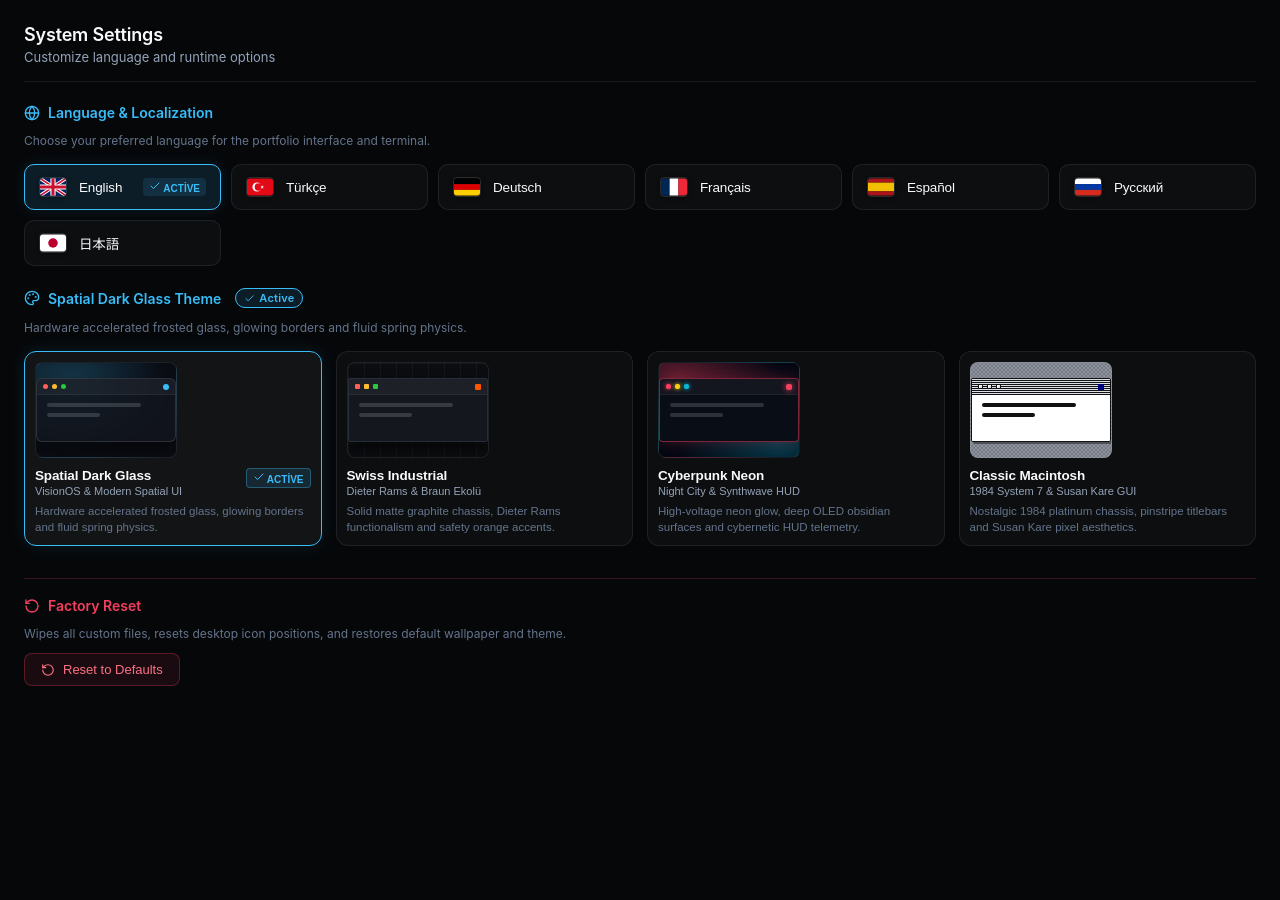
SettingsApp Component › should dynamically update selected theme info title and description when theme changes
Check: the text "Spatial Dark Glass Theme" is shown, box [48, 290, 221, 306]
Check: the text with test id "settings-theme-description" reads "Hardware accelerated frosted glass, glowing borders and fluid spring physics.", box [24, 320, 467, 335]
# Switch to Swiss Industrial
What coordinates should you click on to do the following:
click the radio button with test id "theme-card-swiss-industrial"
I would click on:
 (484, 449)
Its box is [336, 351, 633, 546].
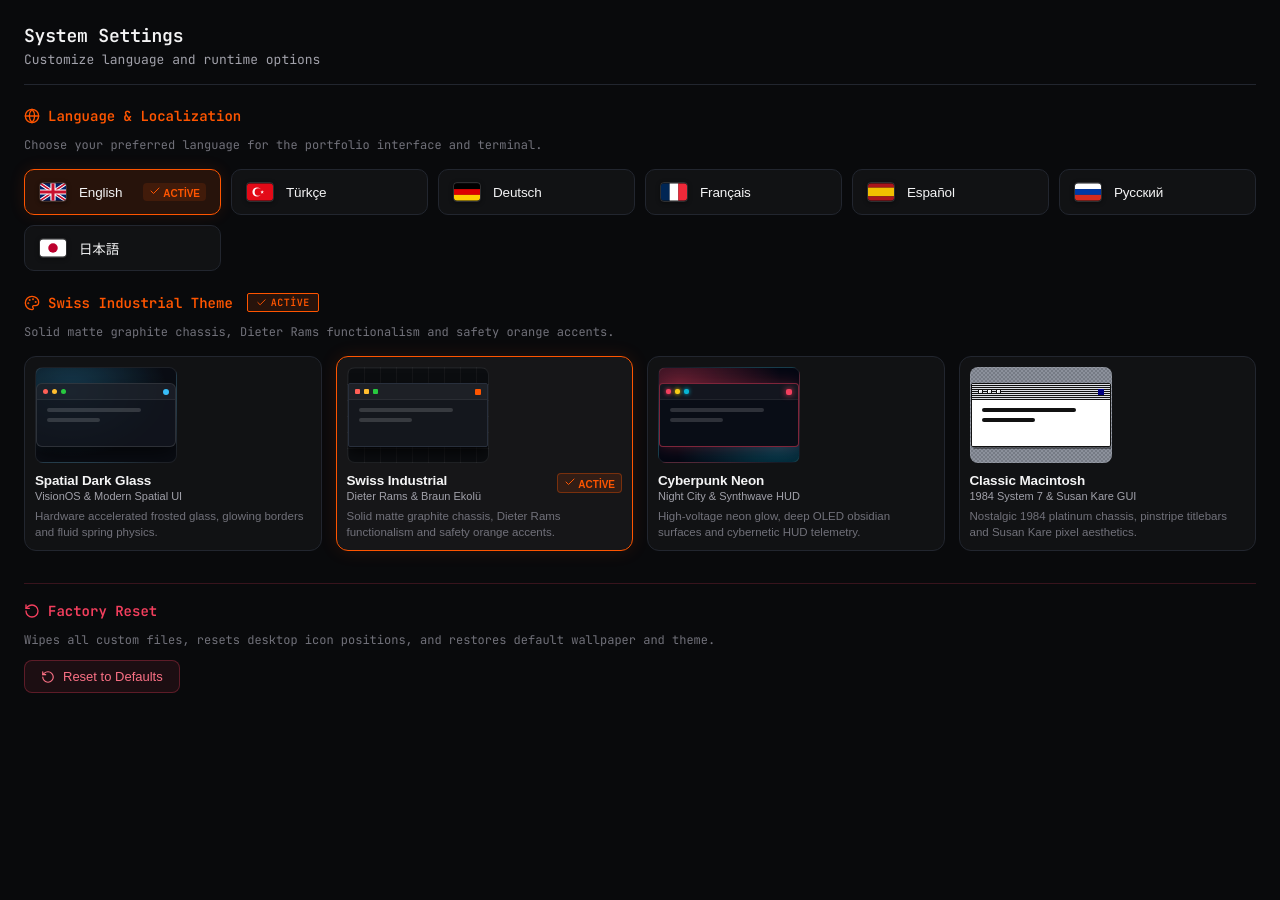
Check: the text "Swiss Industrial Theme" is shown, box [48, 294, 233, 312]
Check: the text with test id "settings-theme-description" shows "Solid matte graphite chassis, Dieter Rams functionalism and safety orange accents.", box [24, 324, 614, 340]
# Switch to Cyberpunk Neon
What coordinates should you click on to do the following:
click the radio button with test id "theme-card-cyberpunk-neon"
I would click on:
 (796, 454)
Its box is [647, 356, 944, 551].
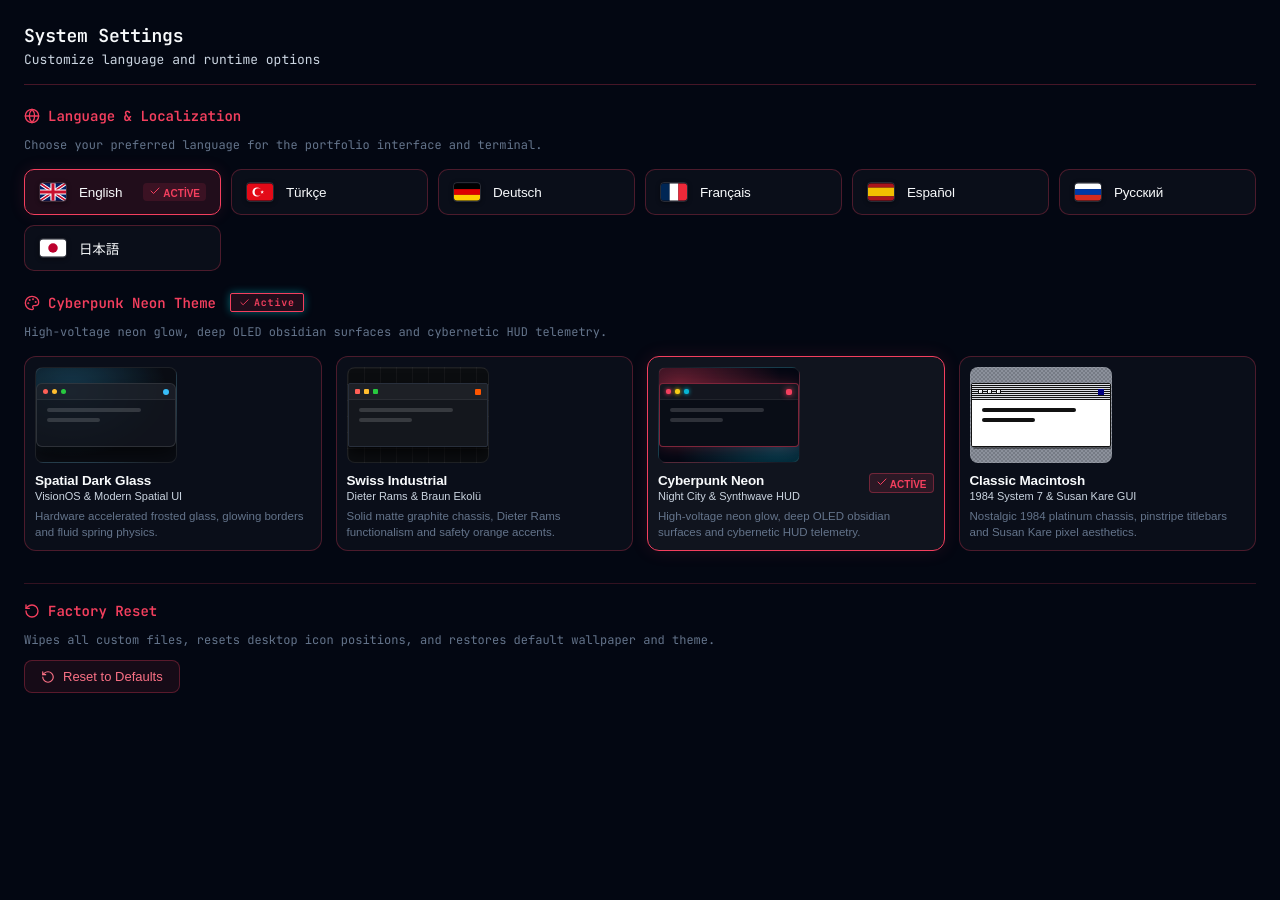
Check: the text "Cyberpunk Neon Theme" is shown, box [48, 294, 216, 312]
Check: the text with test id "settings-theme-description" shows "High-voltage neon glow, deep OLED obsidian surfaces and cybernetic HUD telemetry.", box [24, 324, 607, 340]
# Switch to Classic Macintosh
What coordinates should you click on to do the following:
click the radio button with test id "theme-card-classic-mac"
I would click on:
 (1107, 454)
Its box is [958, 356, 1256, 551].
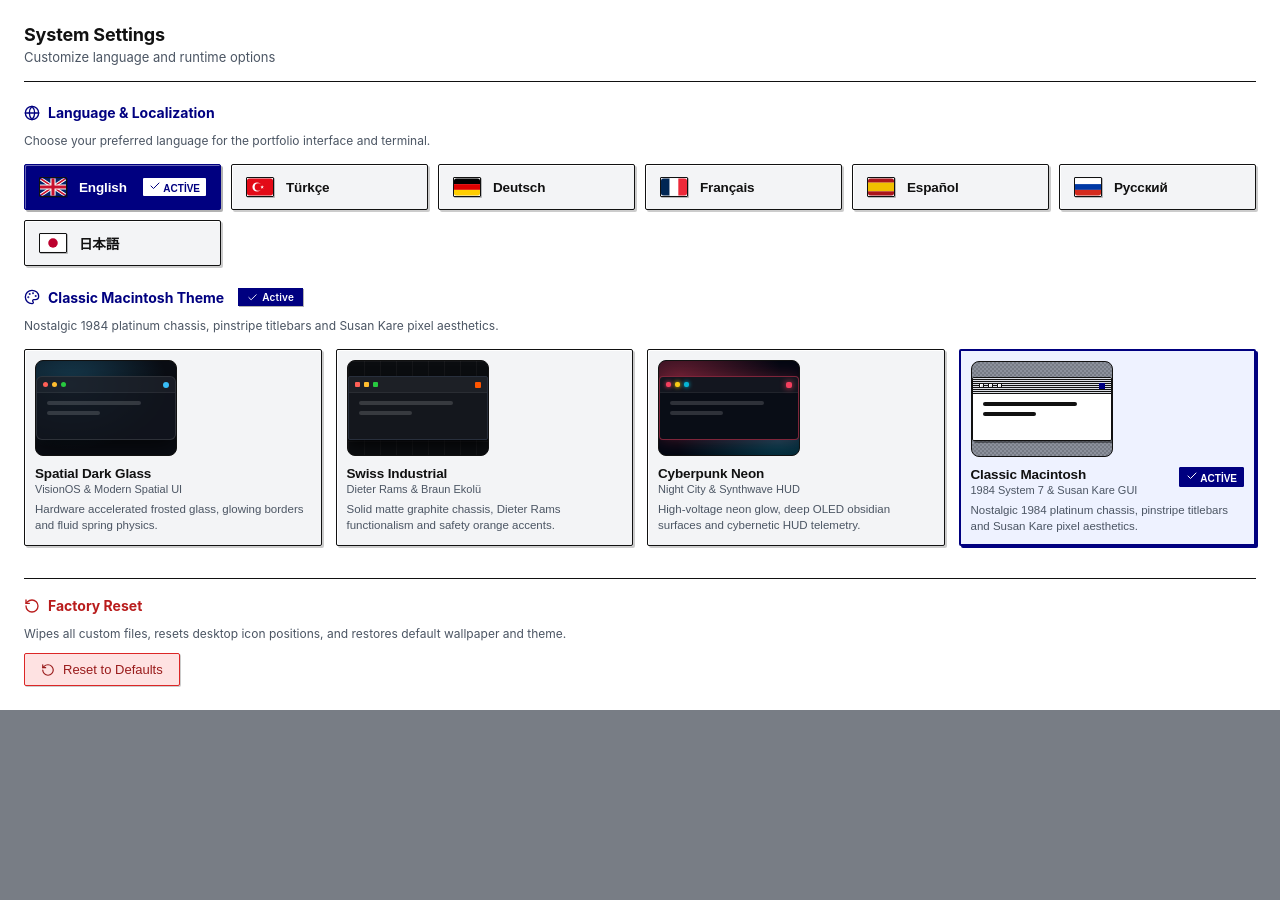
Check: the text "Classic Macintosh Theme" is shown, box [48, 288, 224, 306]
Check: the text with test id "settings-theme-description" shows "Nostalgic 1984 platinum chassis, pinstripe titlebars and Susan Kare pixel aesthetics.", box [24, 318, 499, 333]
